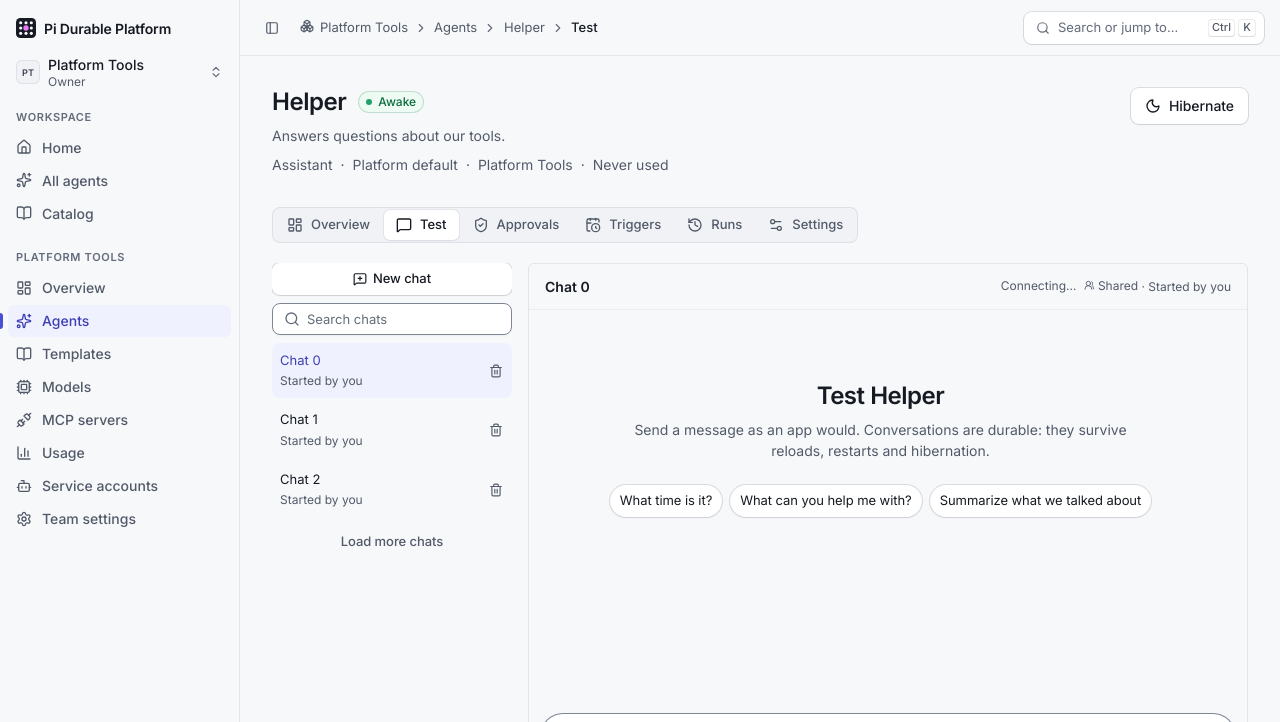
test chat: paging, search and steering › pages the thread list and searches titles
Expected: the button "Chat 2 Started by you" is shown, [272,462,476,517]
Click the button "Load more chats" at (392, 541), box [272,525,512,557]
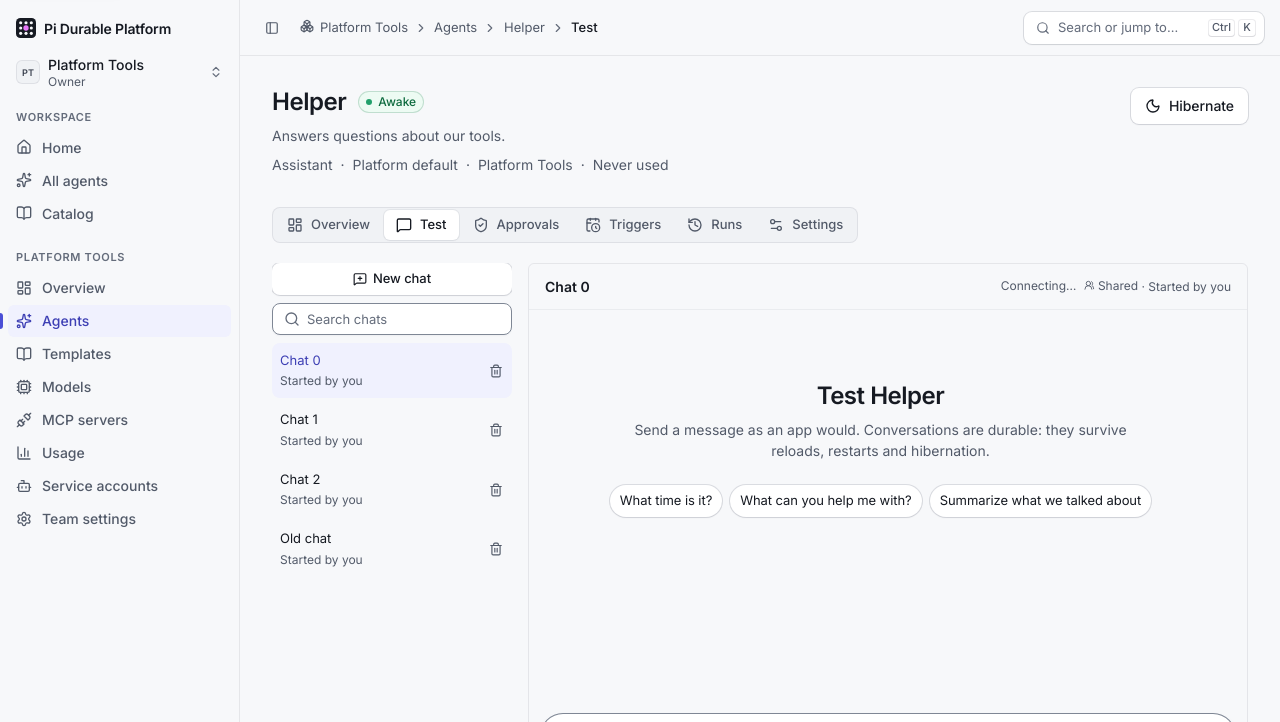
Expected: the button "Old chat Started by you" is shown, [272,521,476,577]
Expected: the button "Load more chats" is gone
Type "deploy" into the search field labelled "Search chats" at (392, 319), box [272,303,512,335]
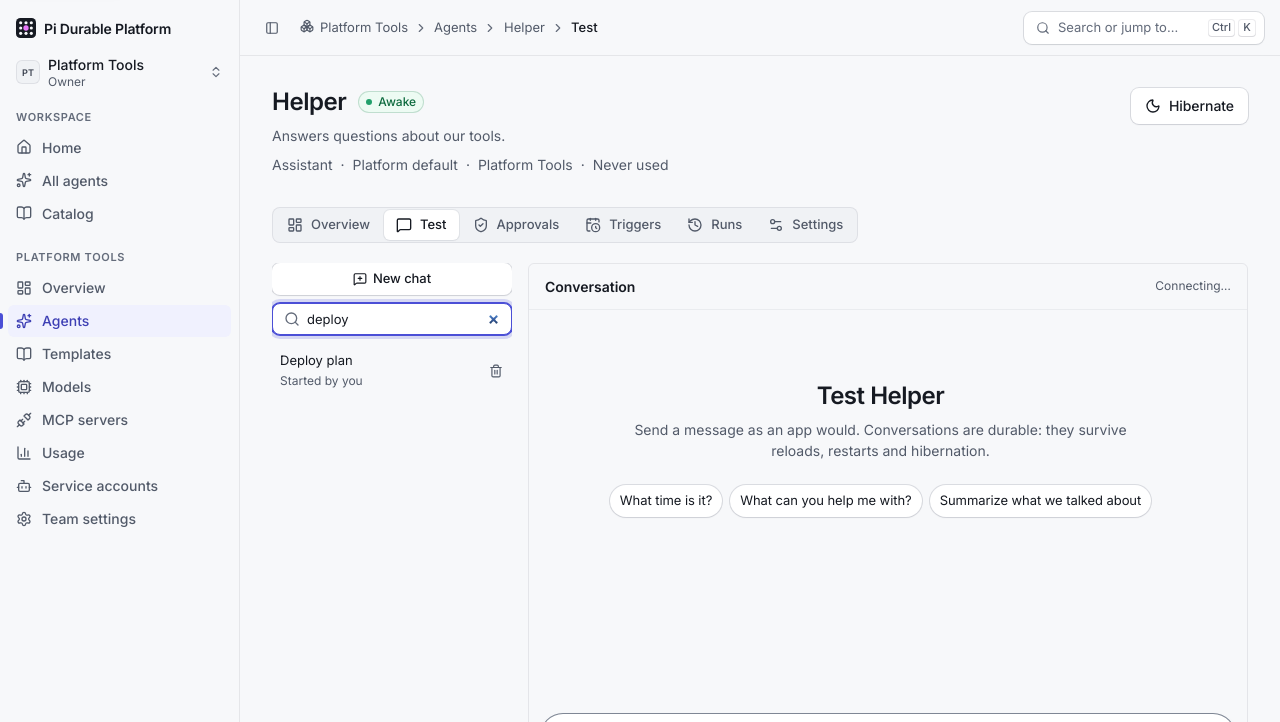
Expected: the button "Deploy plan Started by you" is shown, [272,343,476,398]
Expected: the button "Chat 2" is gone
